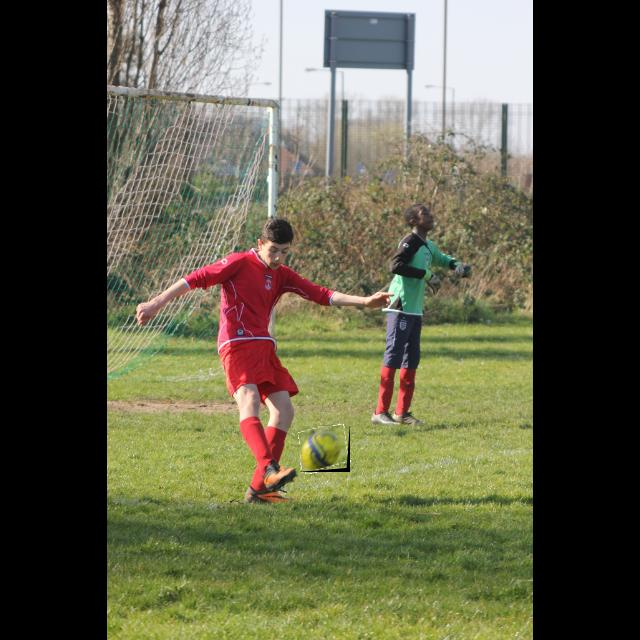Football: (300, 426, 350, 472)
